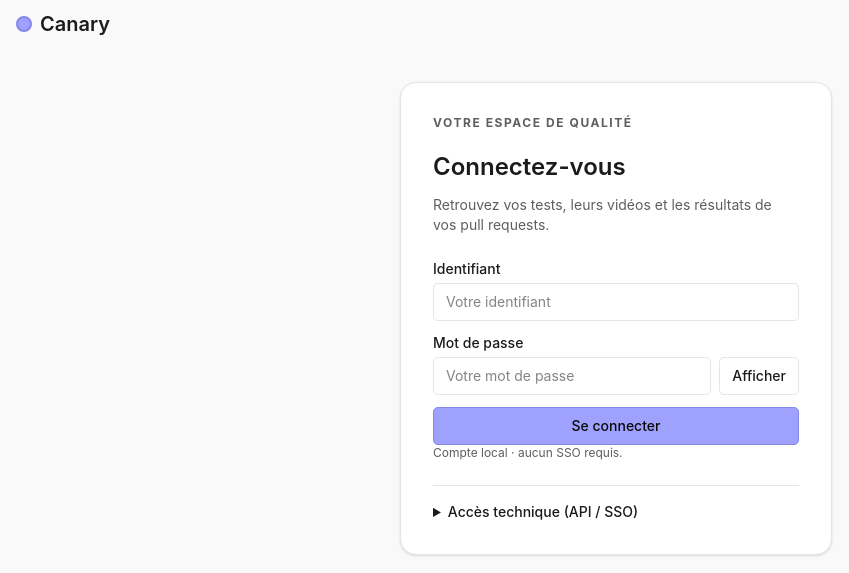
Test: LoginView › toggles the password visibility
Check: the heading "Connectez-vous" is shown, box [433, 152, 626, 181]
Click the button with aria-label "Afficher le mot de passe". click: click(759, 376)
box: [719, 357, 799, 395]
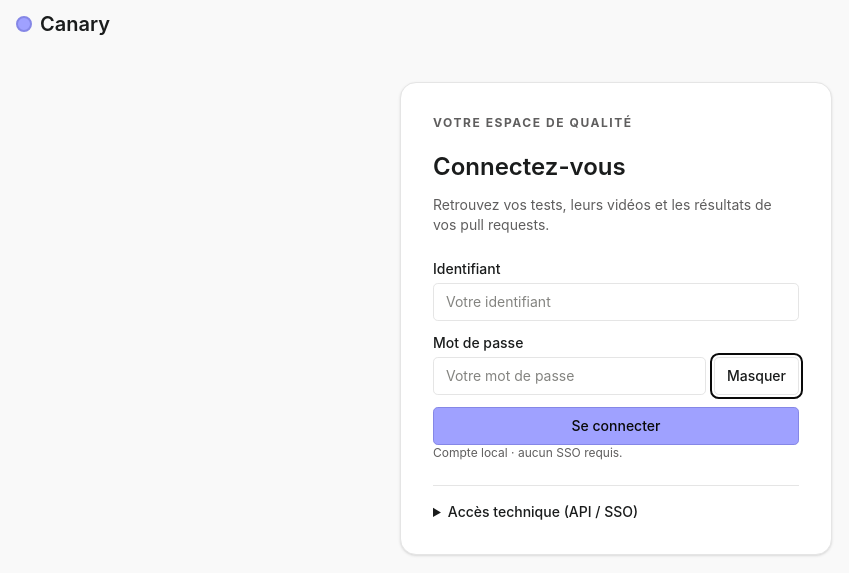
Check: the button named "Afficher le mot de passe" reads "Masquer"
Click the button named "Afficher le mot de passe". click: click(756, 376)
box: [714, 357, 799, 395]
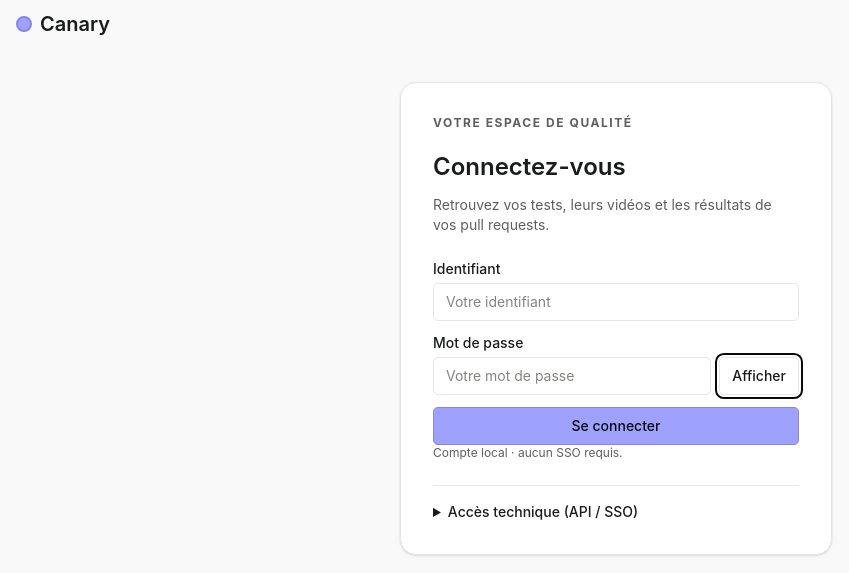
Check: the button with aria-label "Afficher le mot de passe" reads "Afficher", box [719, 357, 799, 395]
